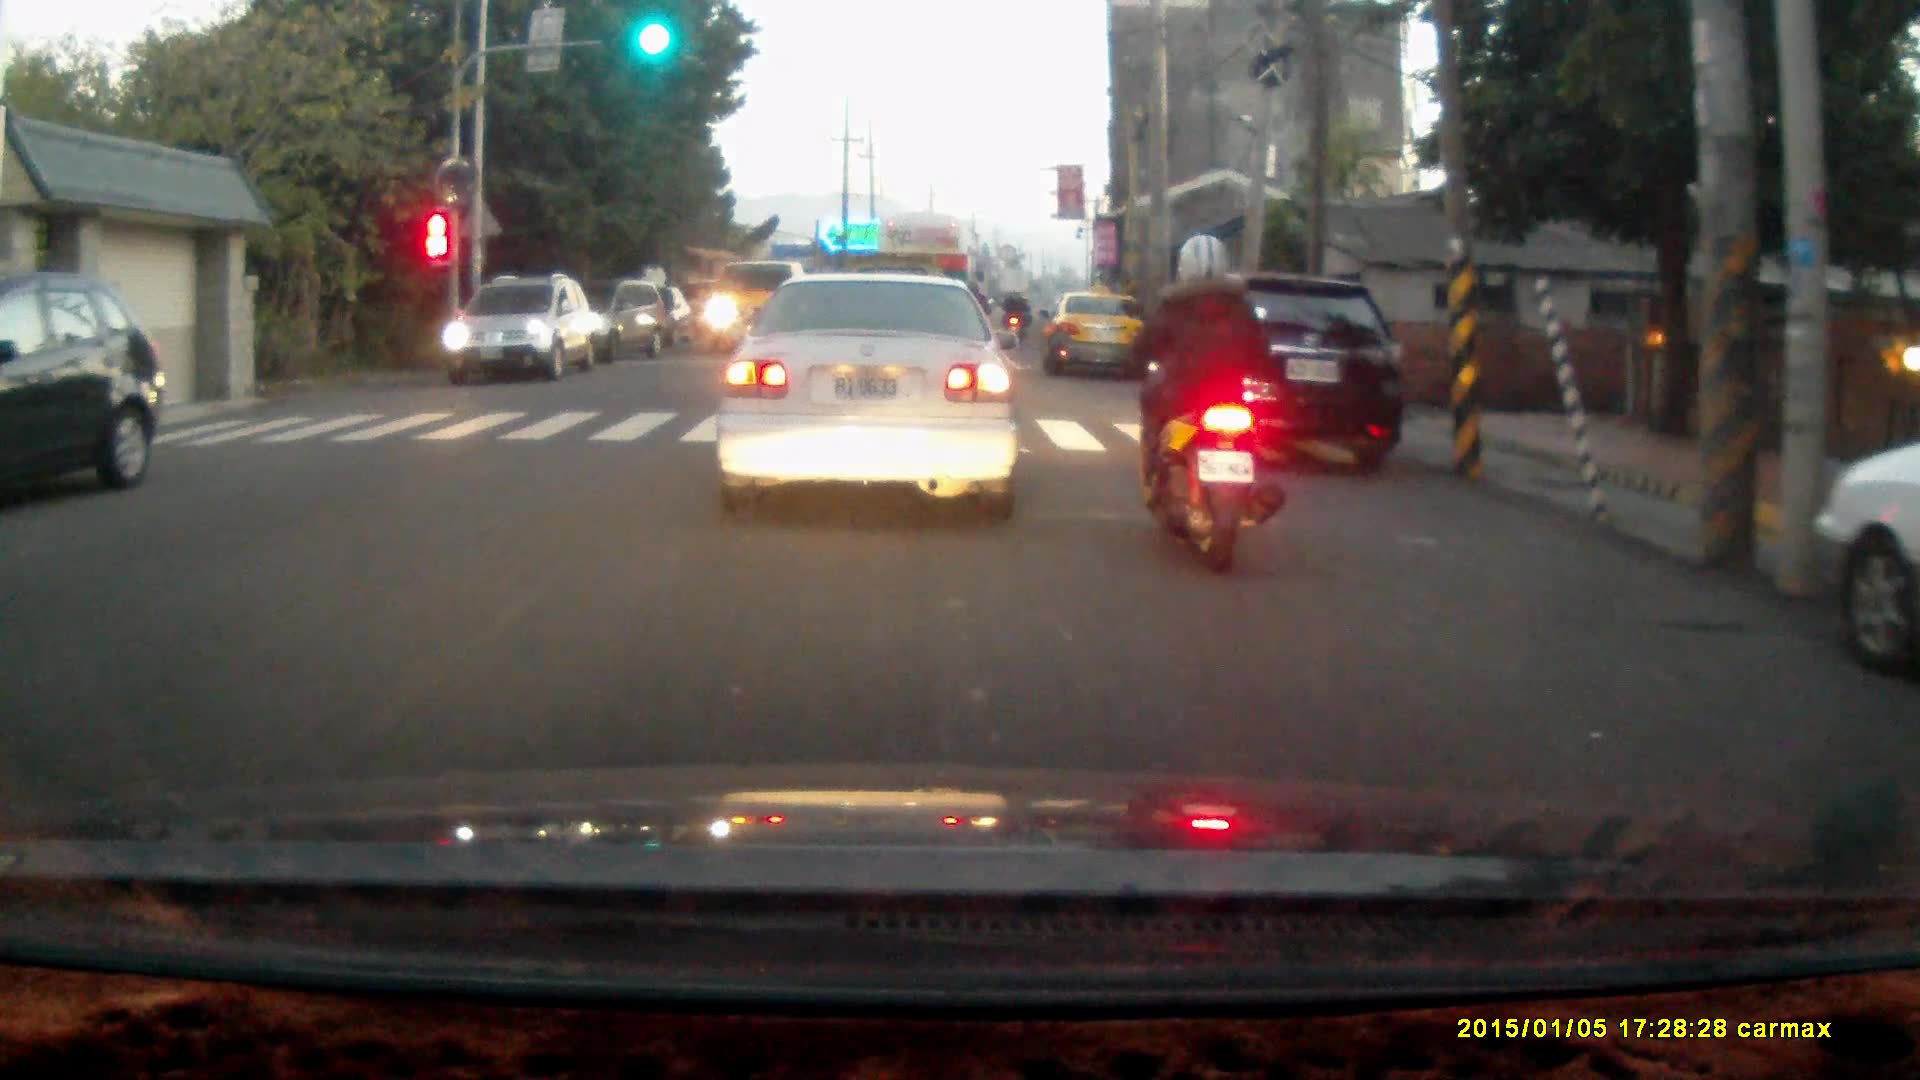rider: (1125, 229, 1287, 573)
vehicle: (711, 268, 1021, 525), (1137, 277, 1413, 476), (1, 270, 170, 496), (1801, 419, 1920, 682), (444, 279, 598, 393), (875, 212, 982, 356), (548, 278, 672, 368), (1043, 291, 1150, 381)
